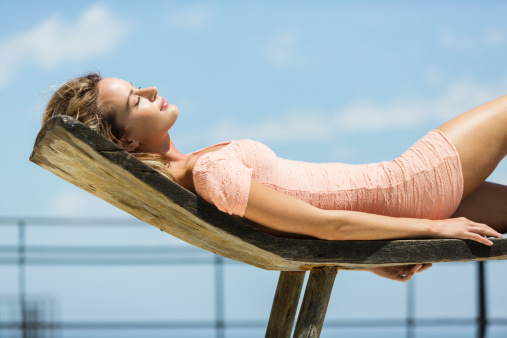deitado: (1, 25, 507, 290)
